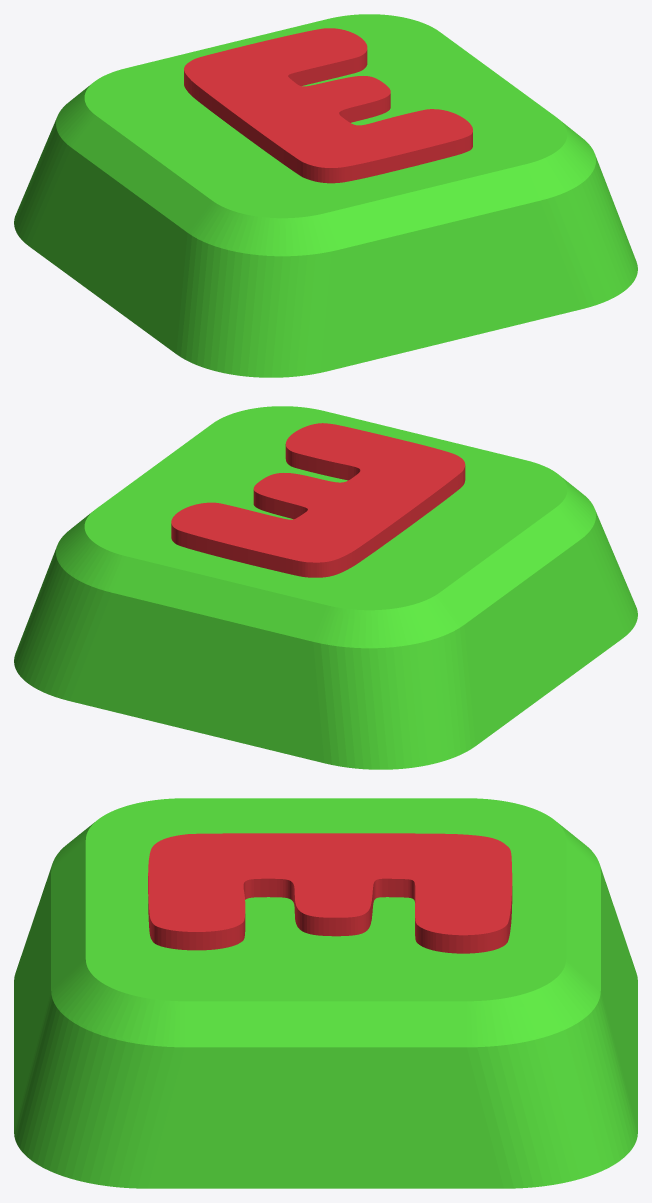
3 views of the same model, one above another, from view 1: azimuth 30°, elevation 25°; view 2: azimuth 150°, elevation 25°; view 3: azimuth 270°, elevation 25° (orthographic). The views are drawn at different scales.
Visible parts, largest first — view 1: CAPS_E, FONT_E; view 2: CAPS_E, FONT_E; view 3: CAPS_E, FONT_E.
Boxes of the visible parts, x1,y1,x2,y2 form: CAPS_E: [14, 14, 637, 377]; FONT_E: [184, 28, 472, 183]; CAPS_E: [14, 406, 637, 769]; FONT_E: [171, 423, 465, 577]; CAPS_E: [14, 798, 637, 1188]; FONT_E: [148, 833, 512, 953].
Bounding box in the file's own units: 18 × 5.59 × 18.
